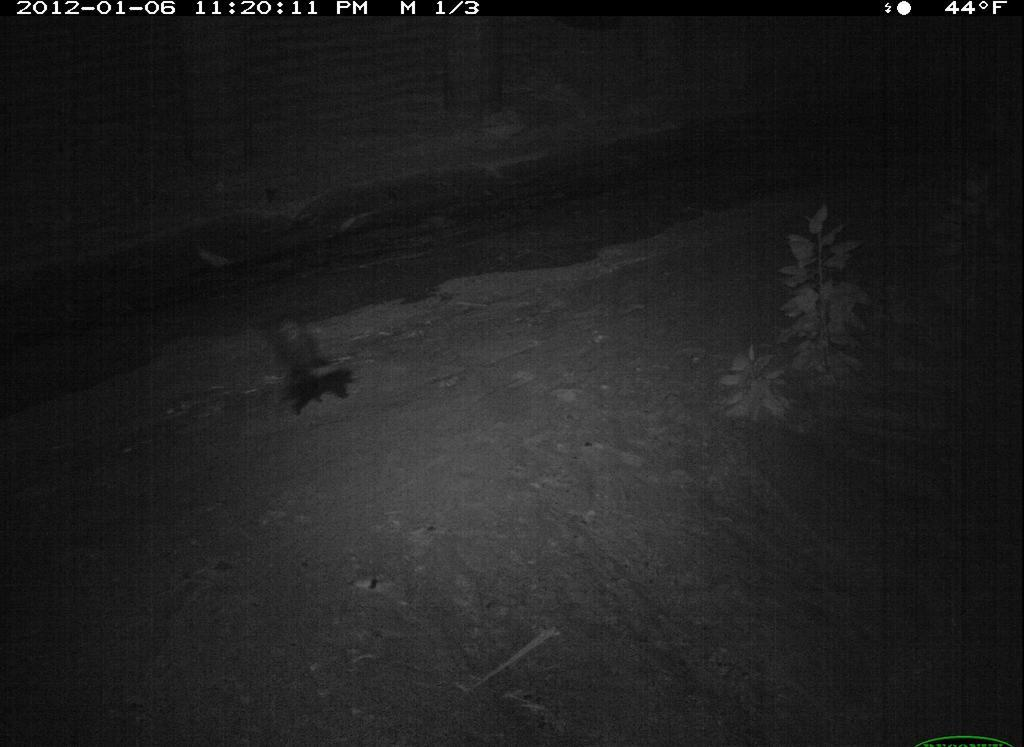skunk: (263, 310, 361, 420)
